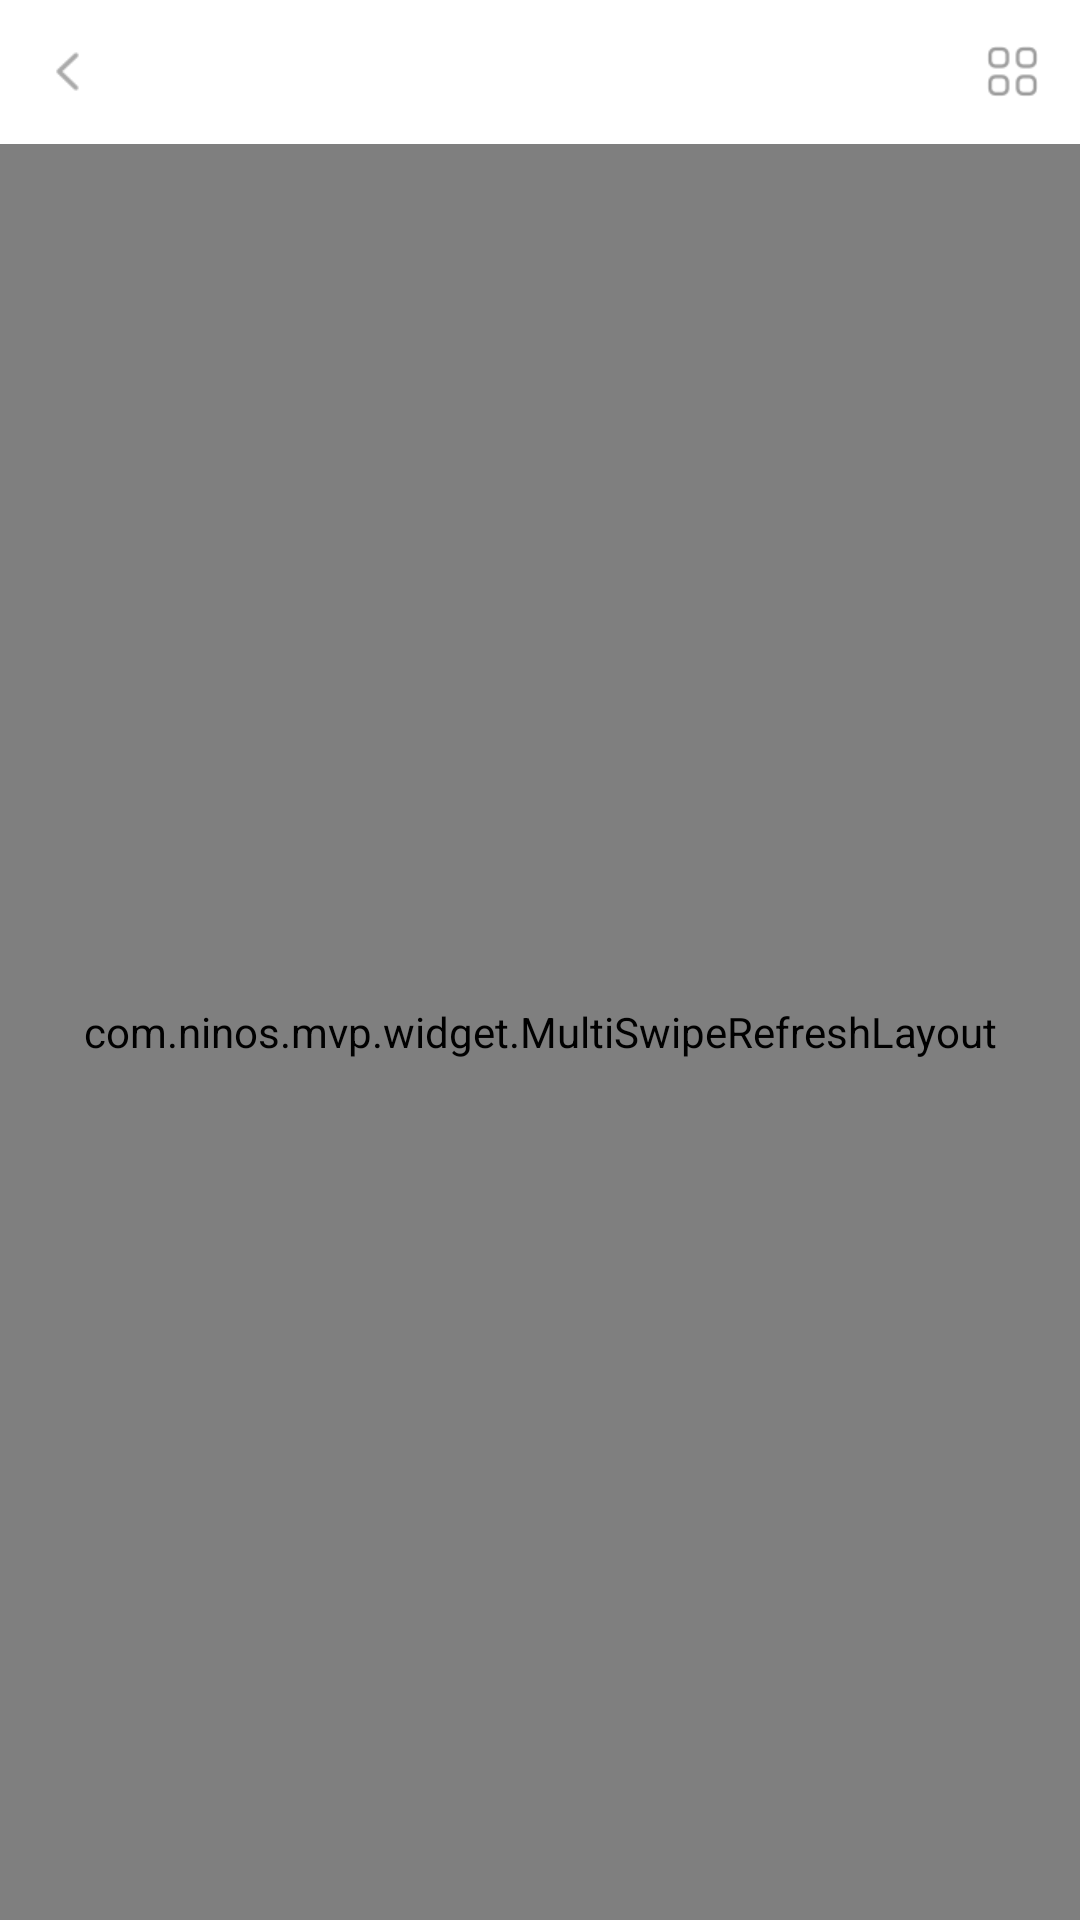

Screen size 1080x1920. Icon name, then its box in pixels as (x1, y1, x2, y2):
arrow left: (56, 52, 79, 91)
list grid: (988, 47, 1037, 96)
